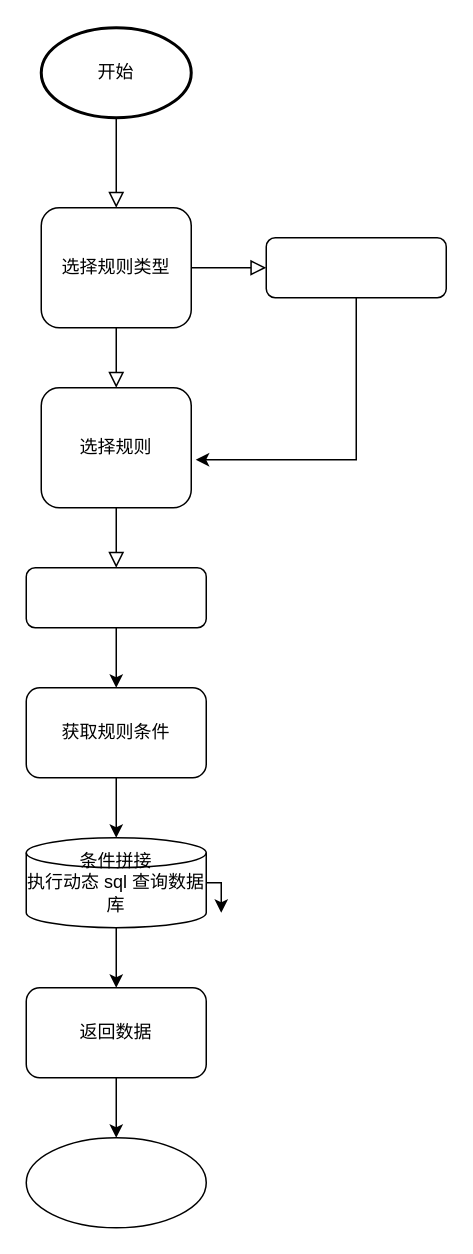
This 473x1254 diagram has some shape labels left out. Each missing label, with the box of its shape:
执行规则预览: (25, 566, 206, 628)
结束: (25, 1136, 206, 1228)
获取规则列表: (265, 236, 446, 298)
